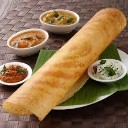dosa: (2, 9, 125, 119)
